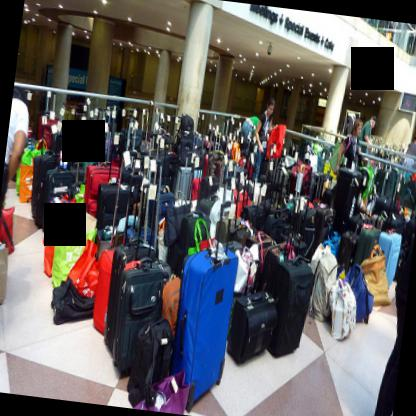backpack: (126, 316, 171, 408), (309, 249, 338, 324), (51, 277, 95, 324), (162, 275, 180, 338), (175, 116, 194, 164)
handbag: (133, 367, 189, 414), (330, 277, 356, 340), (234, 241, 258, 294), (329, 141, 344, 173)
suitcase: (150, 162, 387, 376), (172, 242, 240, 413), (92, 151, 138, 335), (103, 241, 159, 350), (112, 257, 163, 370), (225, 261, 276, 363), (266, 255, 314, 357), (33, 154, 71, 228), (41, 166, 72, 231), (85, 166, 119, 218), (378, 229, 402, 290), (95, 181, 118, 232), (70, 168, 84, 184)
